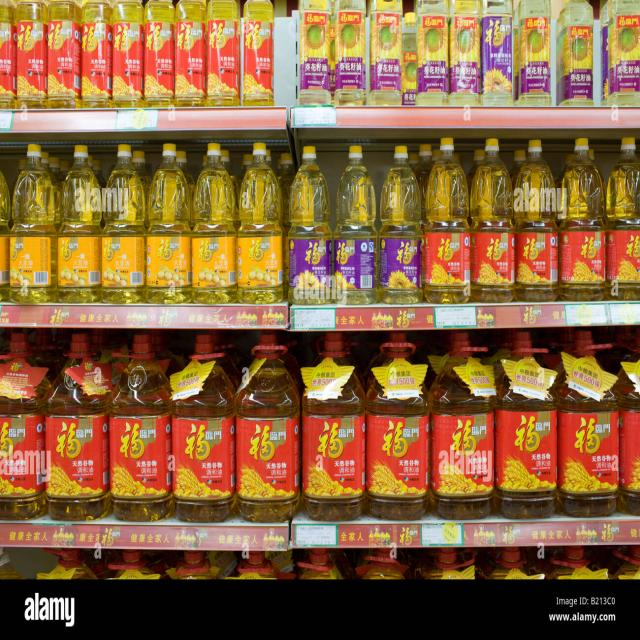oil: (0, 0, 273, 112), (299, 0, 559, 108), (200, 141, 293, 305), (45, 338, 112, 516), (238, 340, 303, 523), (366, 341, 431, 519), (302, 359, 367, 523), (0, 334, 50, 522), (369, 145, 432, 294), (0, 148, 58, 294), (90, 146, 147, 294), (146, 146, 202, 290), (287, 144, 337, 305), (330, 143, 379, 302), (192, 145, 250, 276), (434, 402, 497, 521), (52, 145, 102, 291), (174, 414, 238, 523), (427, 138, 470, 300), (109, 412, 175, 513), (469, 139, 514, 284), (563, 413, 619, 517), (503, 414, 556, 513), (596, 0, 640, 113), (560, 137, 605, 241), (514, 141, 559, 232)
